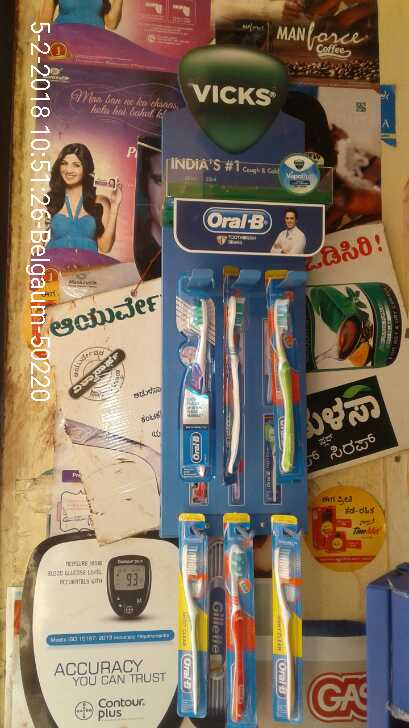oralb: (163, 263, 219, 499), (261, 270, 316, 486), (218, 264, 262, 483), (262, 515, 308, 717), (215, 516, 260, 722), (170, 511, 213, 716)
